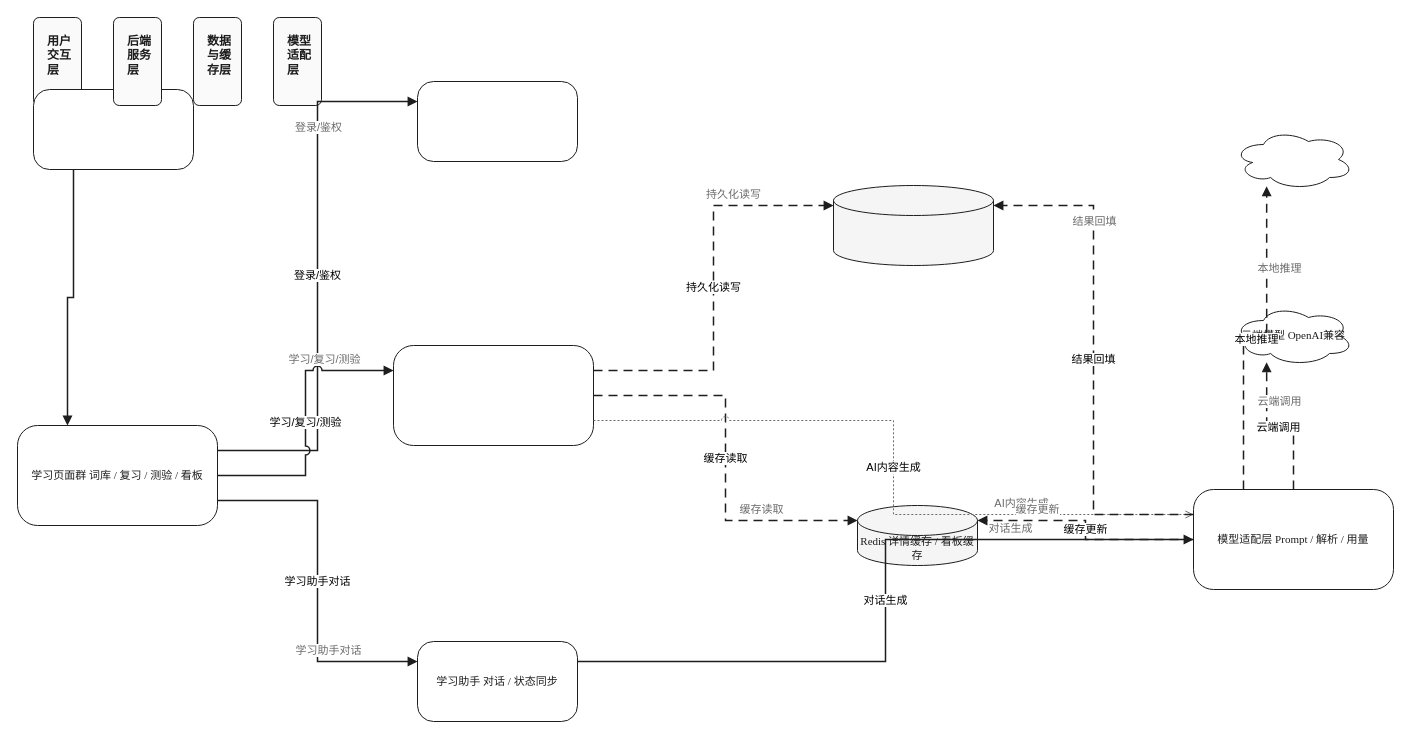
This 1411x739 diagram has some shape labels left out. Here are the shapes that lost their labels. From the top down, the box of each, then its label:
(32, 88, 194, 170): Web前端 Vue3 / Vite
(416, 80, 578, 162): 认证权限 Security / JWT
(1232, 128, 1354, 190): 本地模型 Ollama
(832, 184, 994, 266): MySQL 词表 / 用户 / 进度
(392, 344, 594, 446): 核心业务 词库 / 复习 / 测验 / 看板
